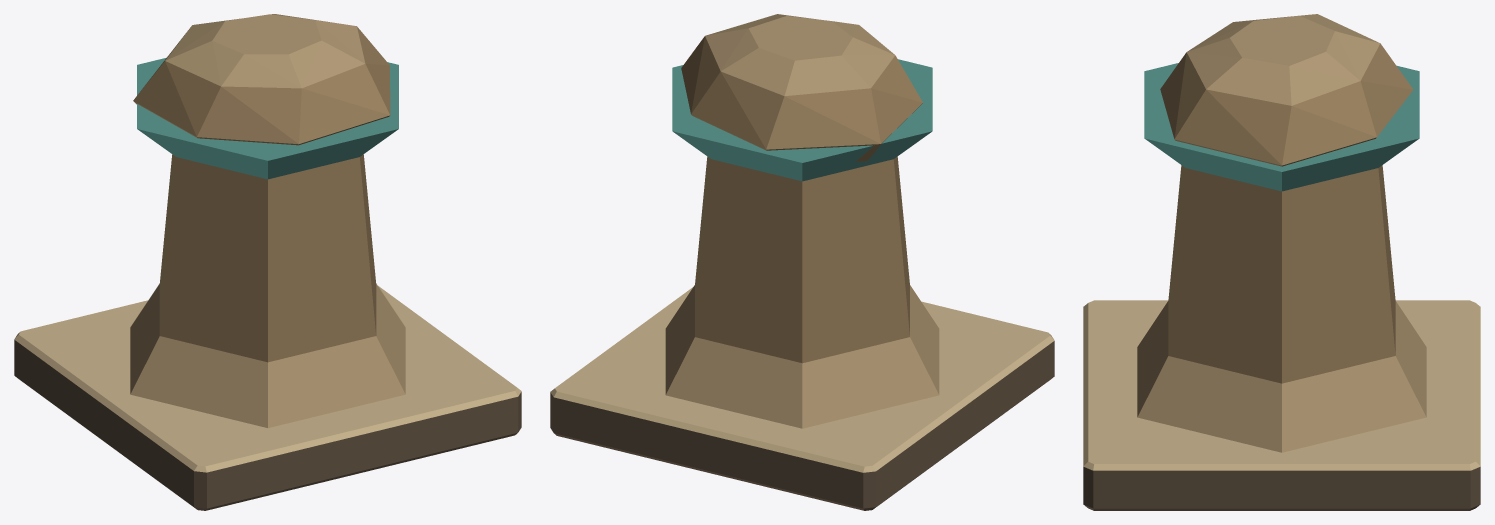
File: pillar-broken.glb
The picture shows the model from 3 angles, left to right: view 1: azimuth 30°, elevation 25°; view 2: azimuth 150°, elevation 25°; view 3: azimuth 270°, elevation 25°; orthographic projection. The views are drawn at different scales.
Parts seen in each view (by area): view 1: pillar-broken__body; view 2: pillar-broken__body; view 3: pillar-broken__body.
Part boxes in pixels (x1=…): pillar-broken__body: x1=14, y1=14, x2=521, y2=510; pillar-broken__body: x1=550, y1=14, x2=1054, y2=510; pillar-broken__body: x1=1083, y1=14, x2=1480, y2=510.
Size of the model in its own units: 1 by 1.08 by 1.
